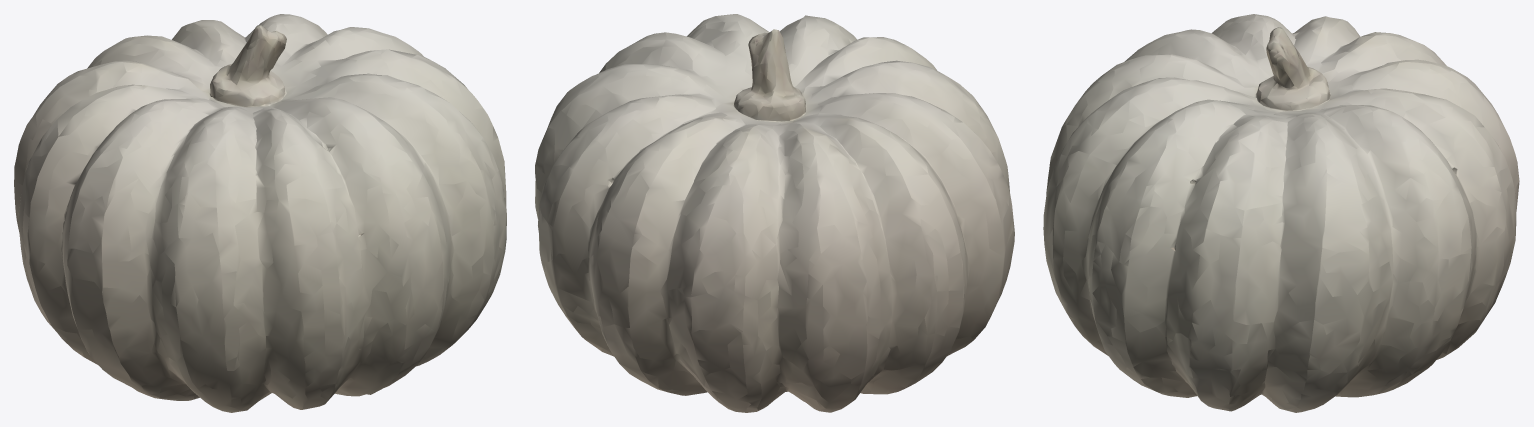
Rendered from 0001_mask_002_white_pumpkin.glb.
3 views of the same model, side by side, from view 1: azimuth 30°, elevation 25°; view 2: azimuth 150°, elevation 25°; view 3: azimuth 270°, elevation 25° (orthographic).
Visible parts, largest first — view 1: mask_002_object; view 2: mask_002_object; view 3: mask_002_object.
Part boxes in pixels (x1,y1,x2,y2): mask_002_object: (14,14,506,412); mask_002_object: (535,14,1014,412); mask_002_object: (1043,14,1519,412).
Bounding box in the file's own units: 0.1435 × 0.1097 × 0.1401.
